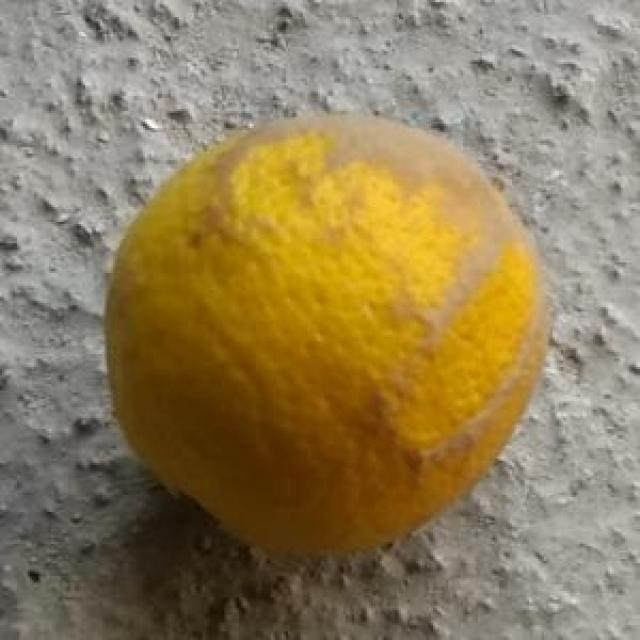lemon: (106, 109, 554, 572)
